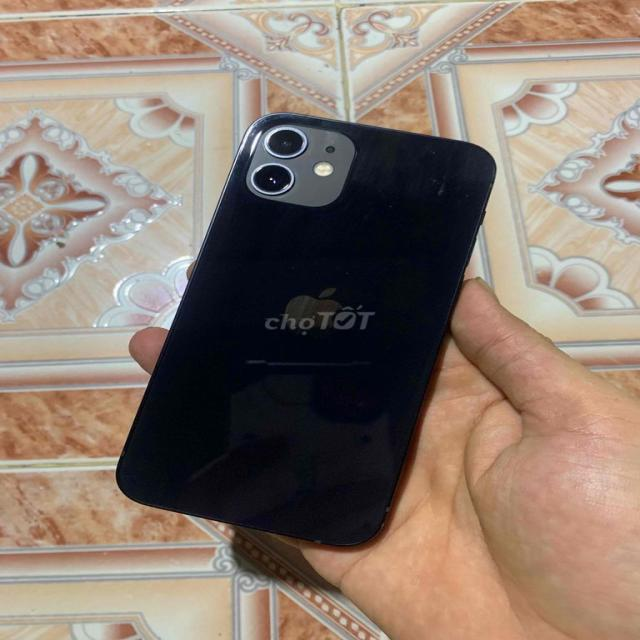gen_12_13: (107, 108, 500, 550)
